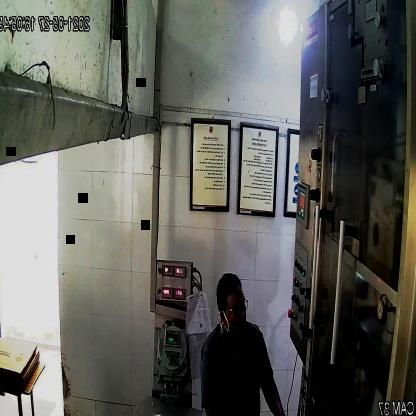goggles: (217, 295, 250, 319)
